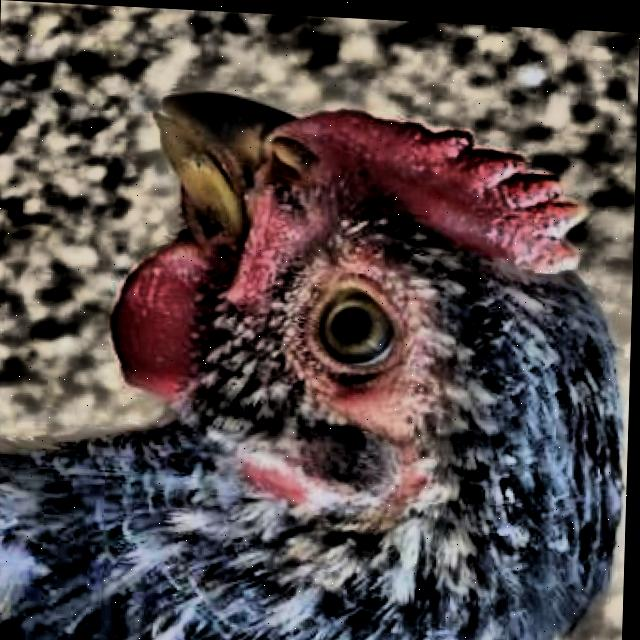Healthy: (275, 251, 440, 406)
